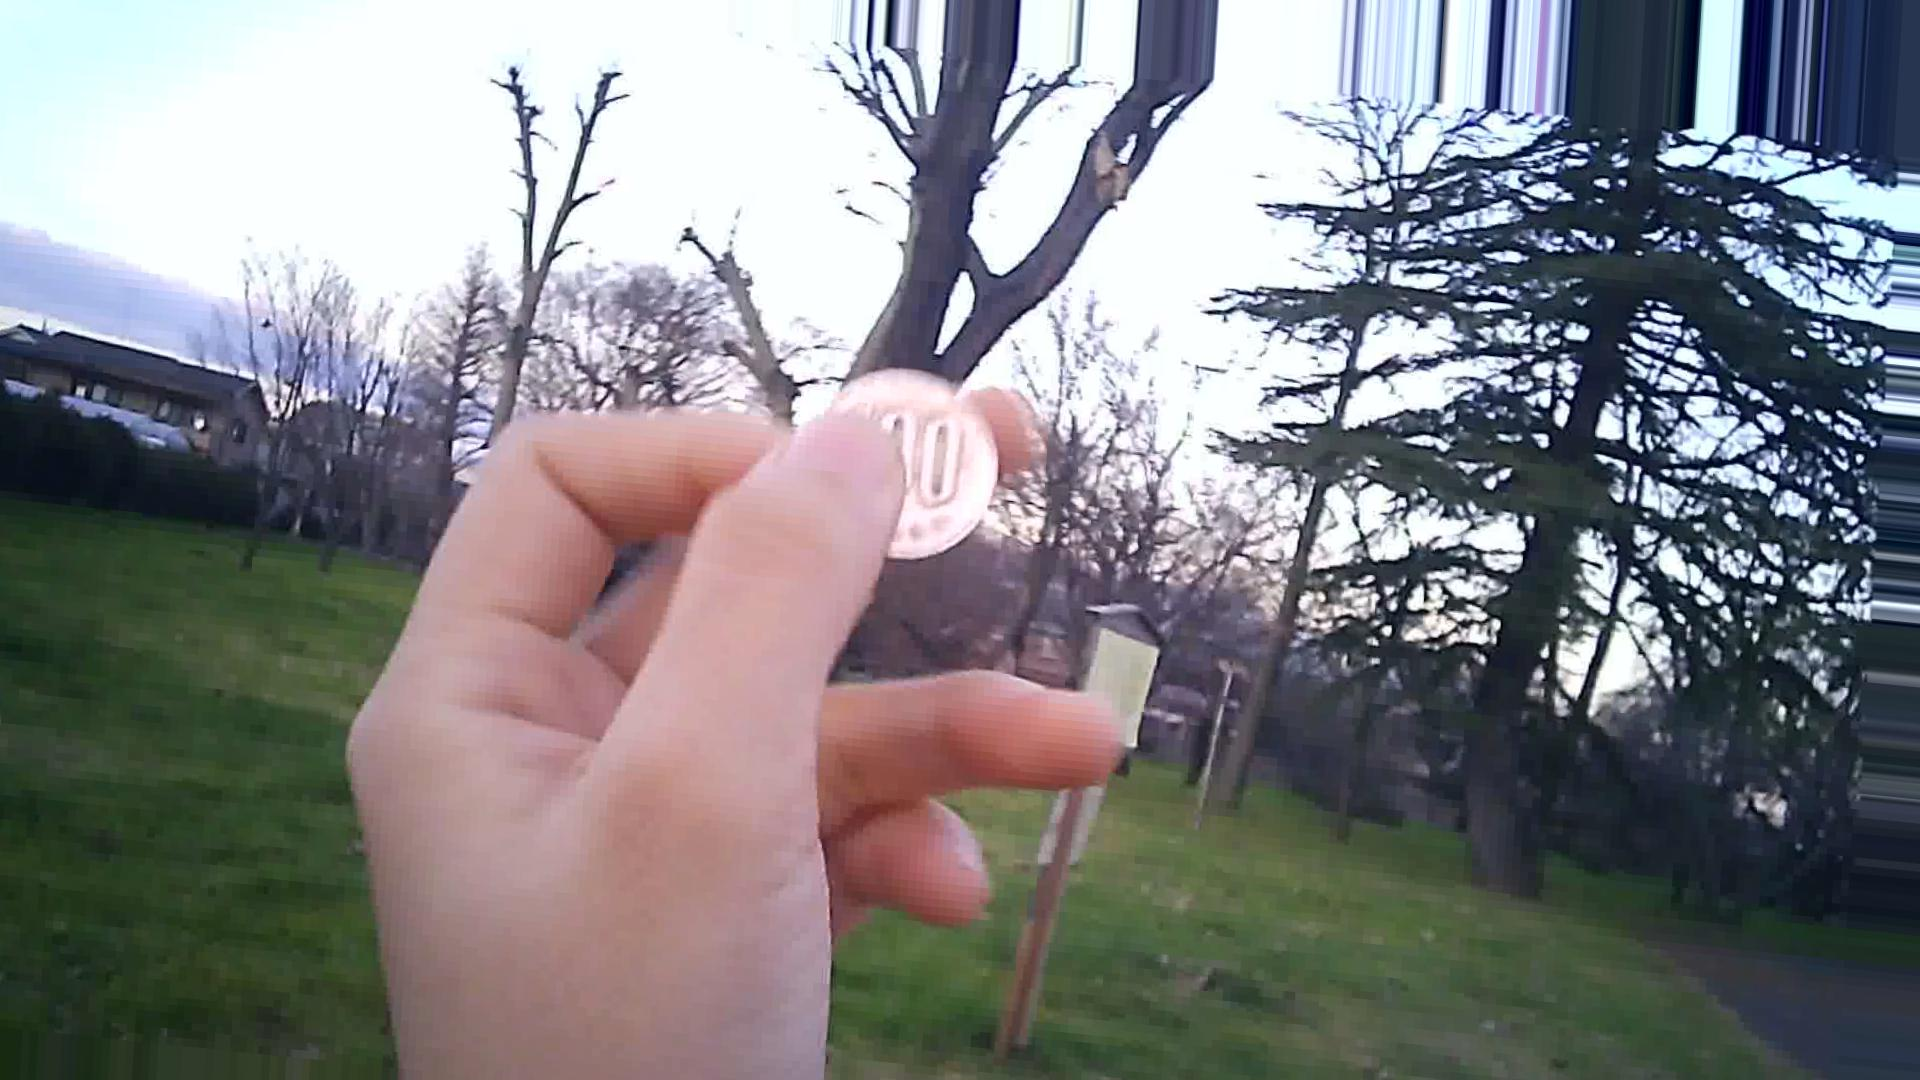100 Yen: (810, 357, 992, 550)
